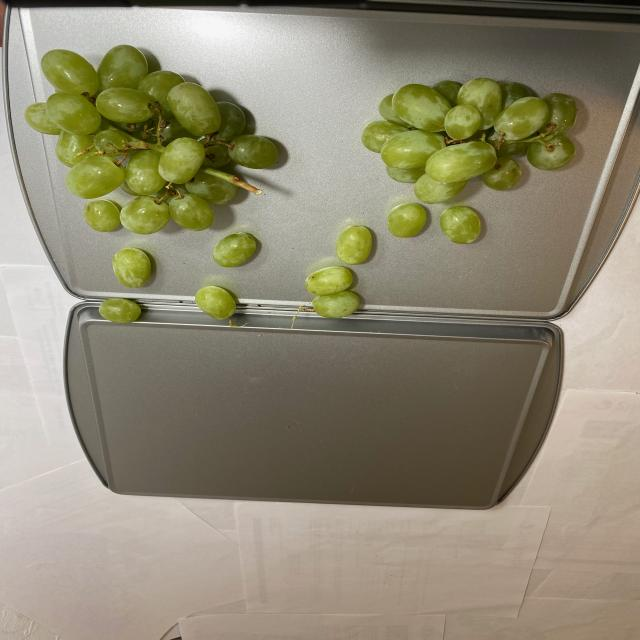Grapes: (23, 75, 591, 322)
